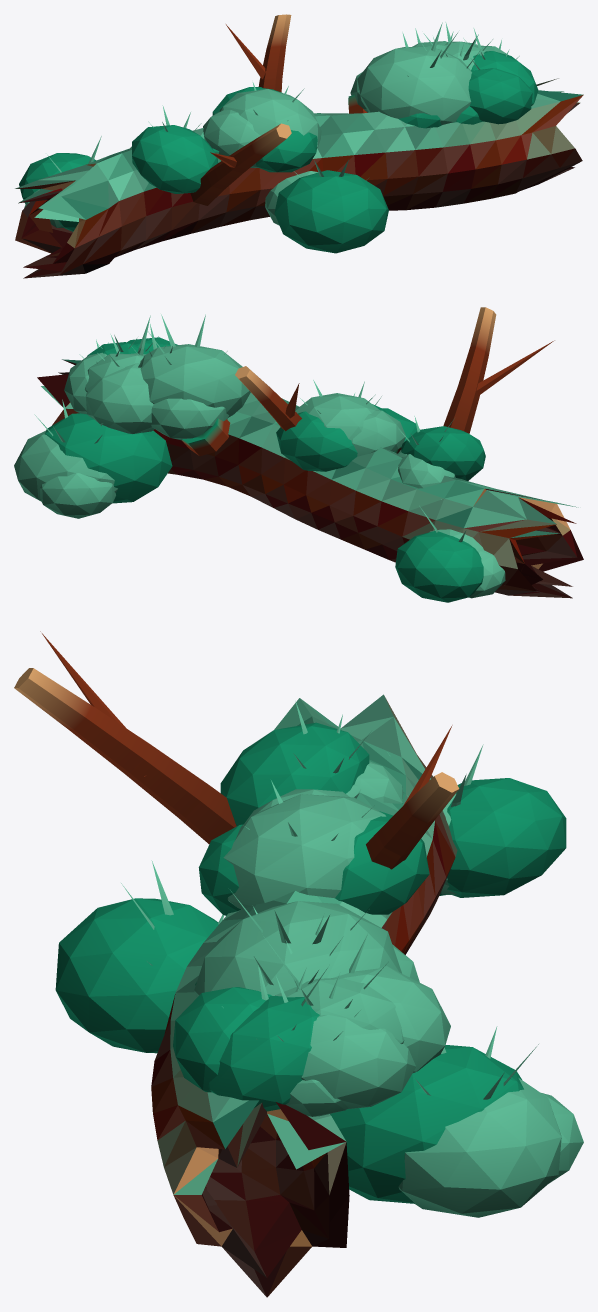
Rendered from pohon_tumbang_hollow_redwood_521570 (1).glb.
3 views of the same model, one above another, from view 1: azimuth 30°, elevation 25°; view 2: azimuth 150°, elevation 25°; view 3: azimuth 270°, elevation 25° (orthographic). The views are drawn at different scales.
Parts seen in each view (by area): view 1: Batang_Pohon_Berlubang; view 2: Batang_Pohon_Berlubang; view 3: Batang_Pohon_Berlubang.
Part boxes in pixels (x1=…): Batang_Pohon_Berlubang: x1=15, y1=14, x2=583, y2=278; Batang_Pohon_Berlubang: x1=14, y1=307, x2=583, y2=602; Batang_Pohon_Berlubang: x1=14, y1=631, x2=583, y2=1297.
Bounding box in the file's own units: 5.56 × 1.8 × 2.92.
